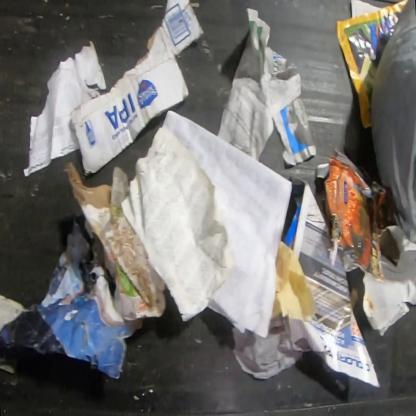cardboard: (70, 0, 204, 176), (64, 161, 168, 326)
soft_plastic: (315, 148, 398, 282), (371, 0, 416, 243)
